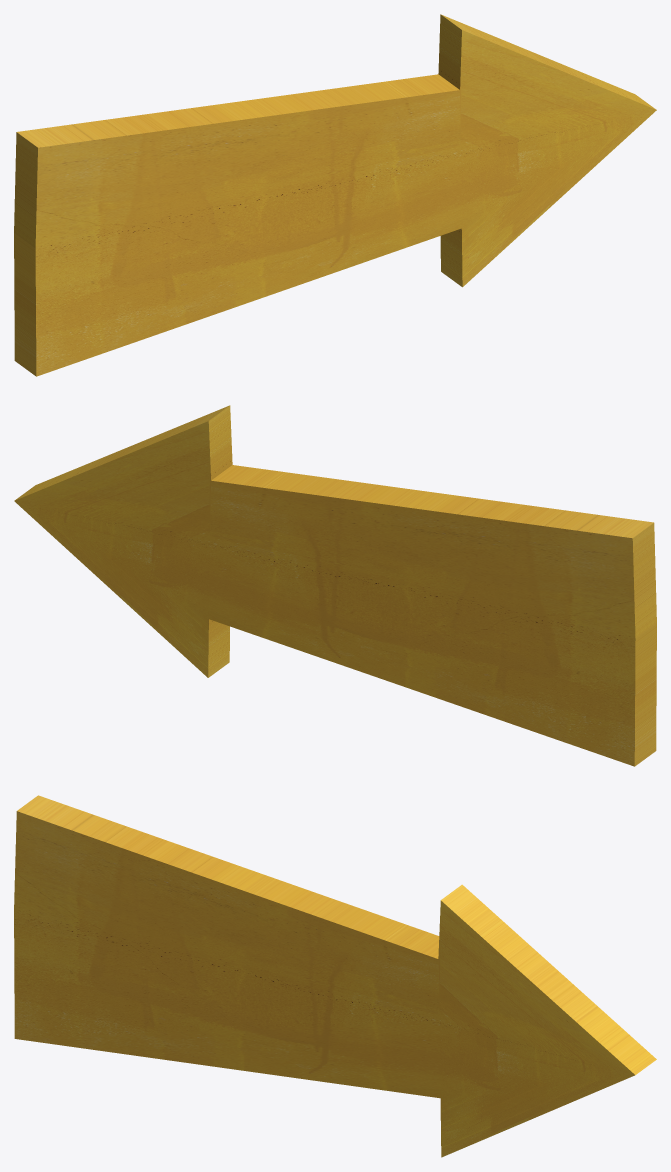
The model's file is Flecha.fbx.
The picture shows the model from 3 angles, top to bottom: view 1: azimuth 30°, elevation 25°; view 2: azimuth 150°, elevation 25°; view 3: azimuth 330°, elevation 25°; orthographic projection.
Visible parts, largest first — view 1: Plano; view 2: Plano; view 3: Plano.
Boxes of the visible parts, box(x1,y1,x2,y2) form: Plano: box(14, 14, 656, 376); Plano: box(14, 405, 656, 766); Plano: box(14, 795, 656, 1157).
Bounding box in the file's own units: 298 × 118 × 18.21.
1 material, 1 textured.
